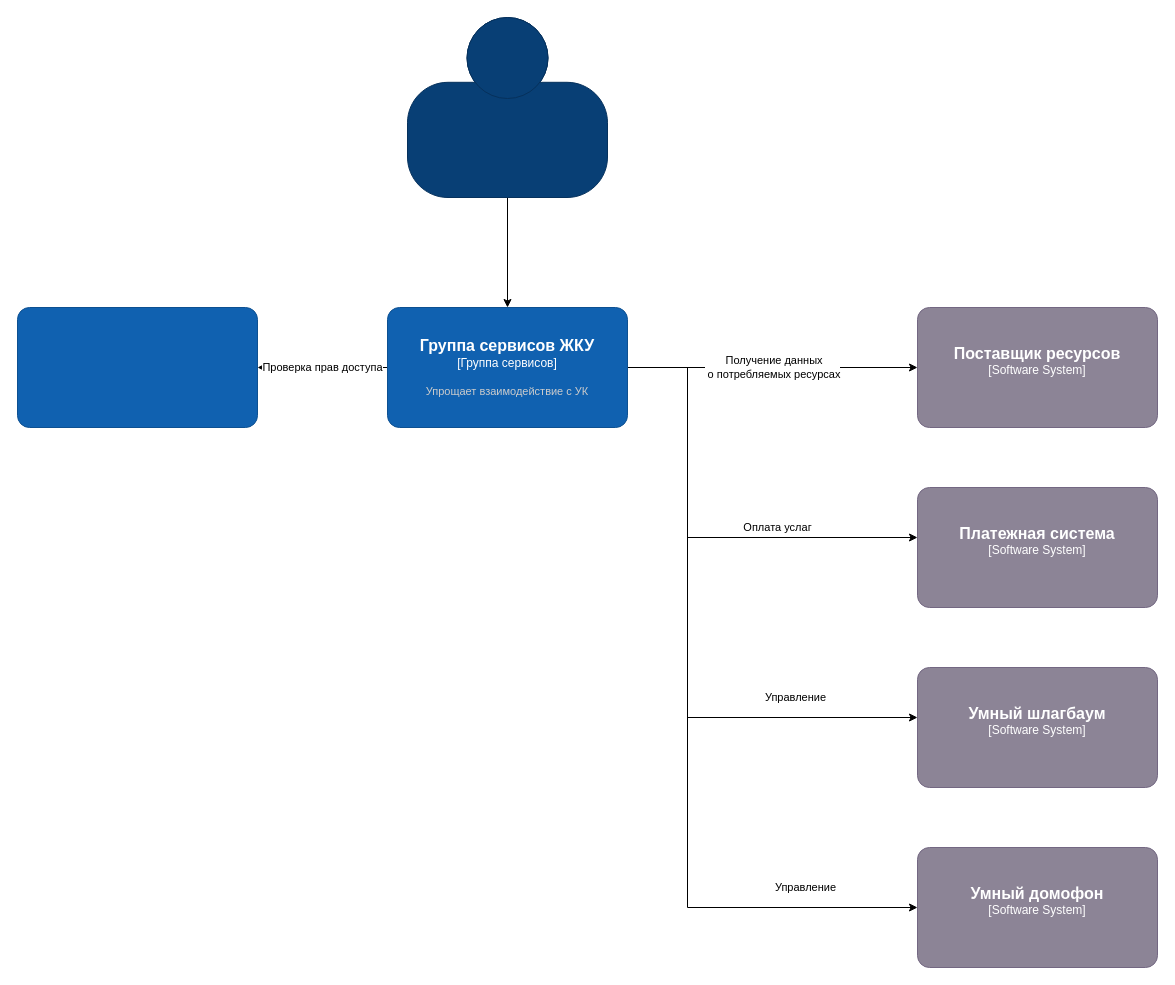
Image size: 1175x985. Some labels were removed from this diagram. Here are the shapes that lost their labels. From the top down, the centre of each, then its label:
At (507,107): "Собственник [Person] Клиент".
At (137,367): "Единая система авторизации [Software System] auth-service".
